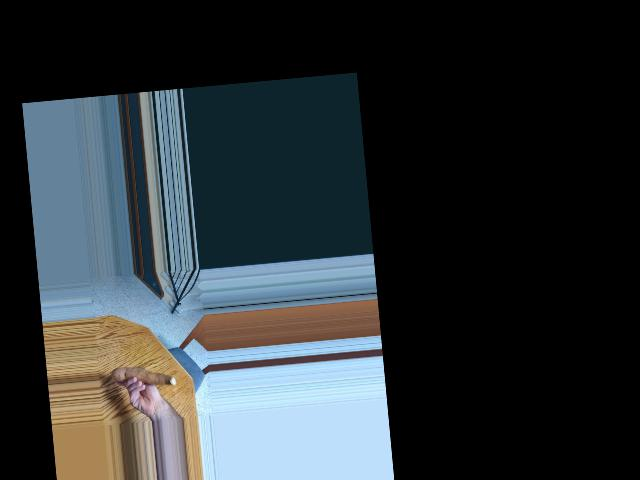sweet_potato: (113, 360, 173, 393)
